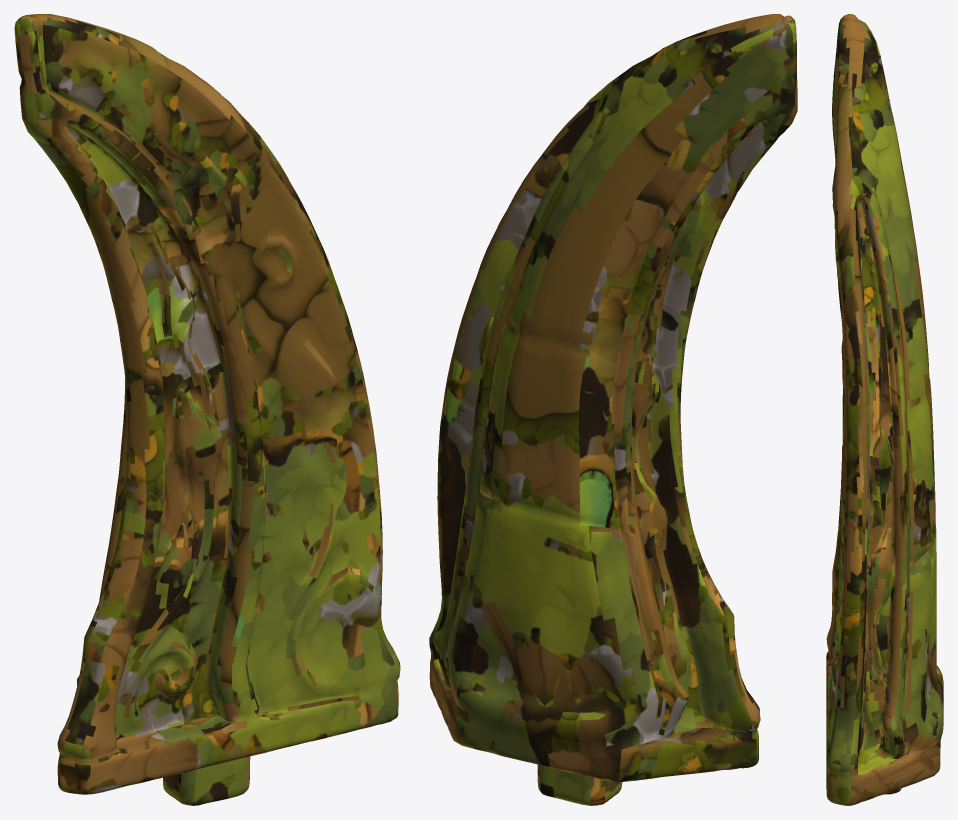
File: nat-Base-Leaf2-8100.fbx
The picture shows the model from 3 angles, left to right: view 1: azimuth 30°, elevation 25°; view 2: azimuth 150°, elevation 25°; view 3: azimuth 270°, elevation 25°; orthographic projection. The views are drawn at different scales.
Visible parts, largest first — view 1: tripo_node_7dc02b38; view 2: tripo_node_7dc02b38; view 3: tripo_node_7dc02b38.
Boxes of the visible parts, x1,y1,x2,y2 form: tripo_node_7dc02b38: (14, 14, 400, 805); tripo_node_7dc02b38: (429, 14, 797, 805); tripo_node_7dc02b38: (826, 14, 943, 805).
Size of the model in its own units: 0.4637 by 0.9784 by 0.1513.
